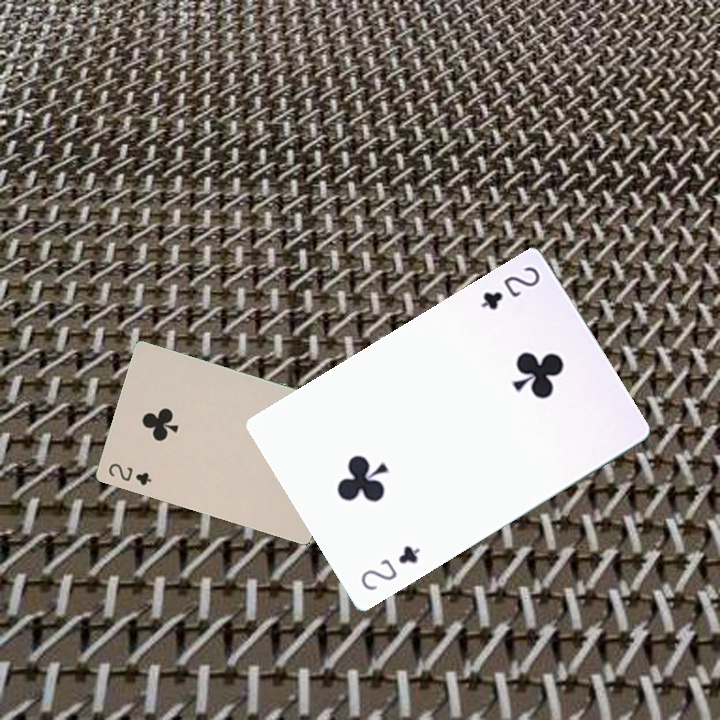2c: (356, 541, 423, 594), (476, 262, 543, 313), (104, 459, 154, 488)
